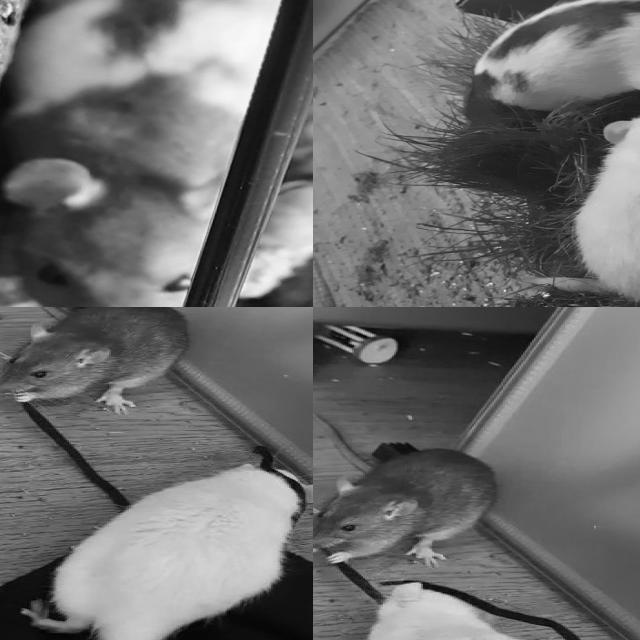rat: (0, 0, 287, 307), (53, 464, 313, 640), (313, 449, 496, 571), (0, 307, 186, 415), (463, 0, 640, 111), (344, 585, 571, 640), (580, 96, 640, 301)
